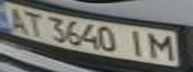0: (96, 24, 121, 53)
3: (42, 15, 66, 44)
4: (78, 21, 100, 51)
6: (63, 18, 84, 47)
A: (3, 3, 30, 33)
I: (121, 27, 151, 57)
M: (145, 30, 181, 61)
T: (18, 8, 48, 37)
